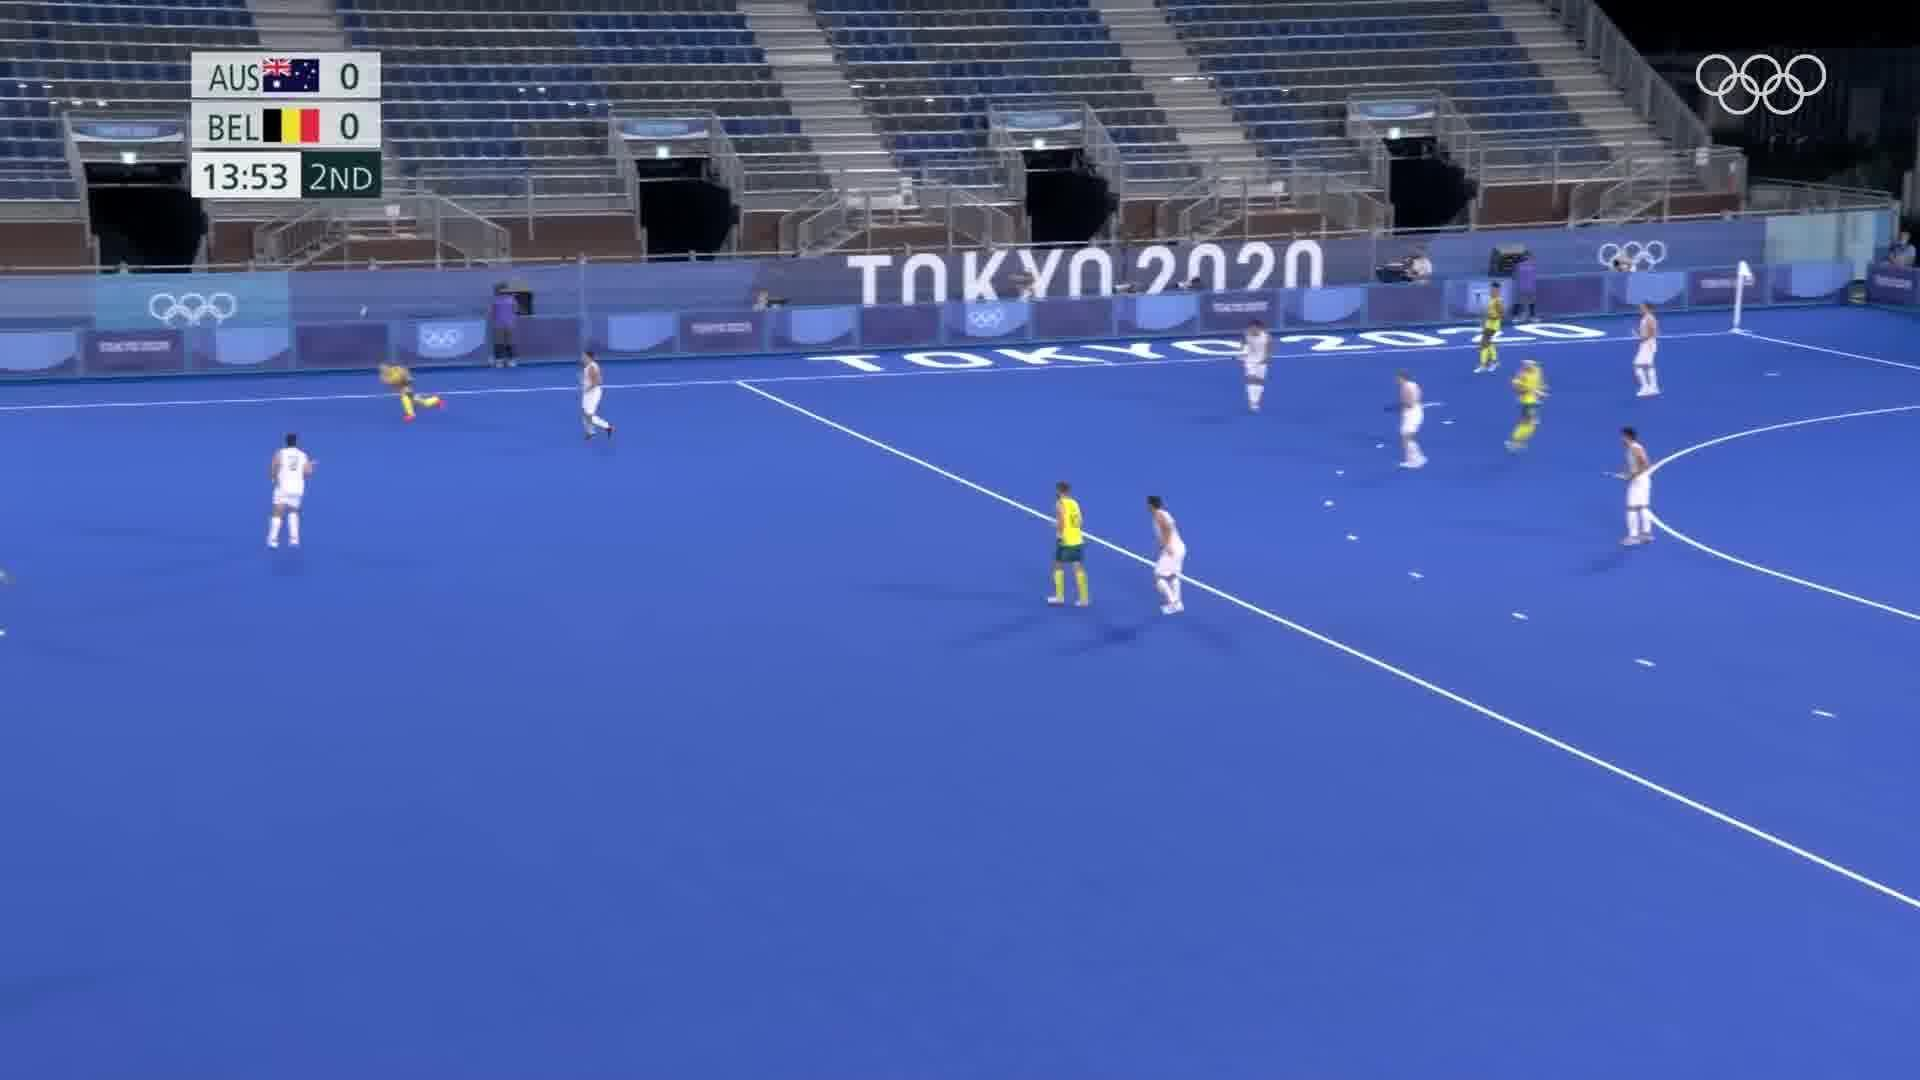ball: (353, 302, 372, 322)
